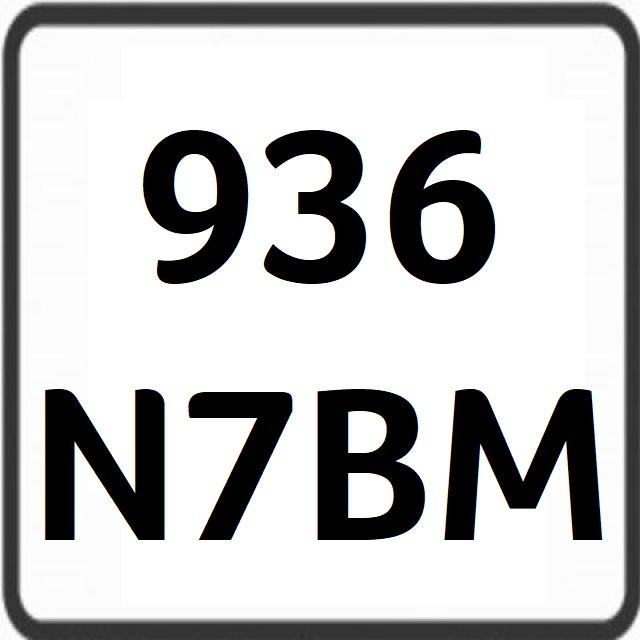6: (385, 104, 505, 291)
9: (140, 119, 258, 303)
B: (310, 374, 429, 558)
M: (443, 364, 610, 545)
N: (37, 363, 174, 553)
